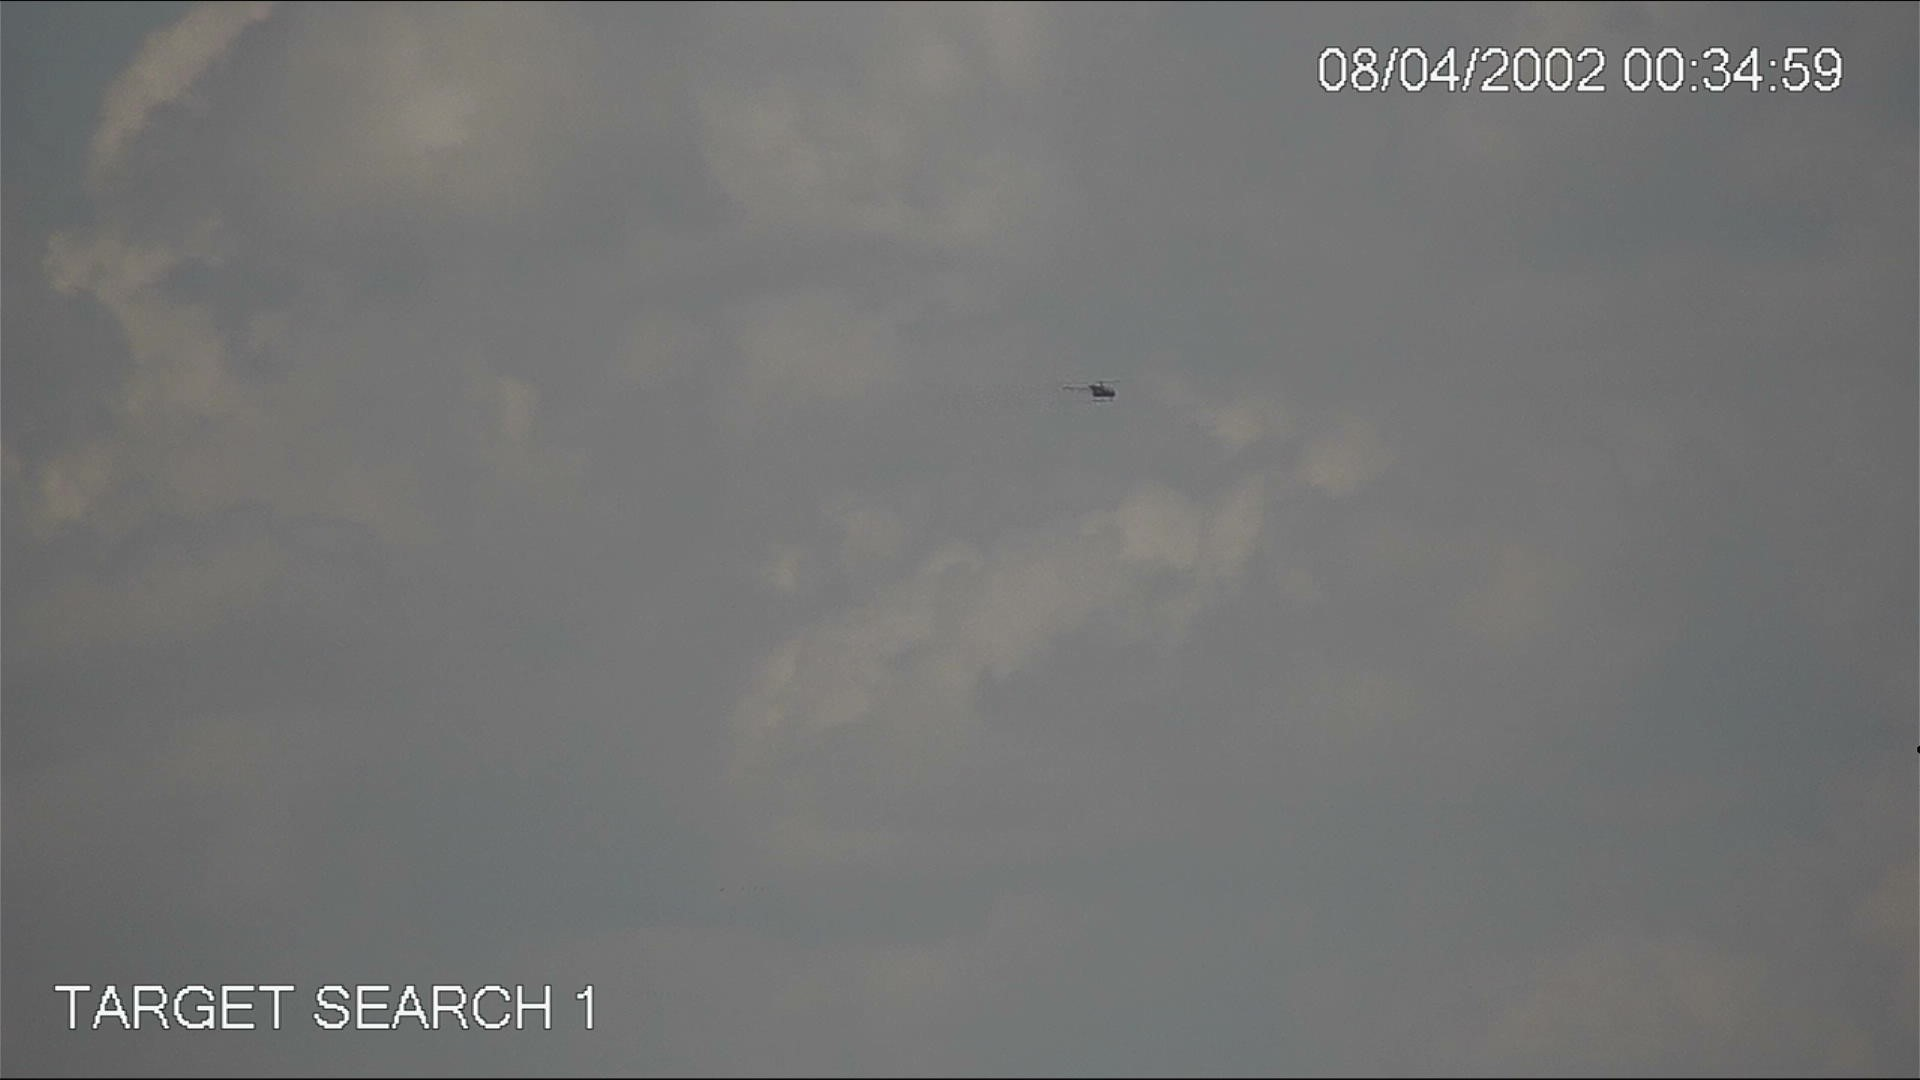SU_30: (1063, 378, 1126, 404)
